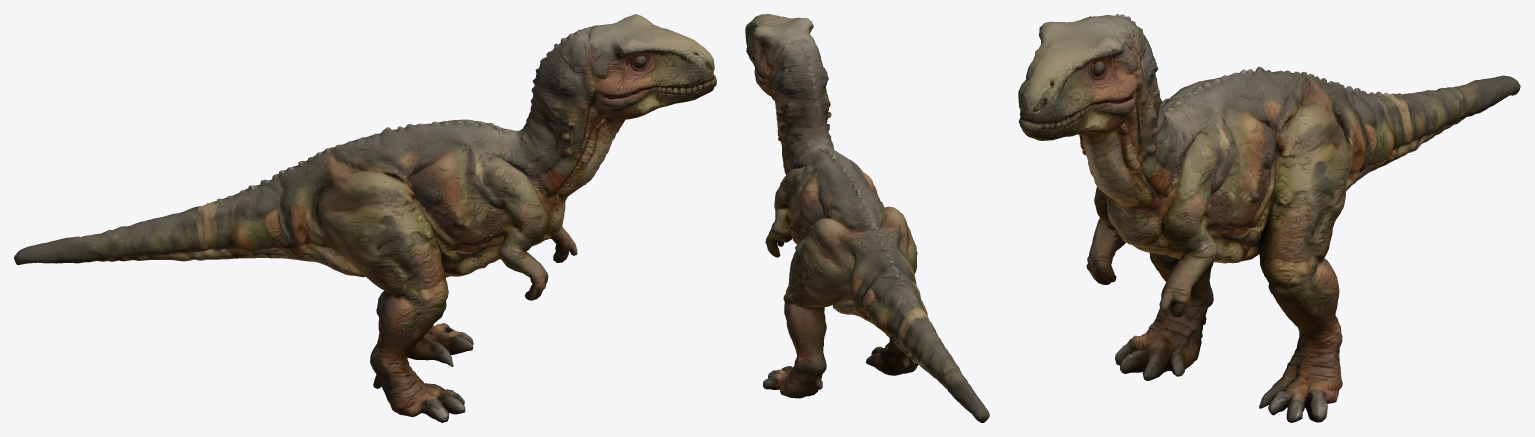
The model's file is yangchuanosaurus.glb.
3 views of the same model, side by side, from view 1: azimuth 30°, elevation 25°; view 2: azimuth 150°, elevation 25°; view 3: azimuth 270°, elevation 25° (orthographic). The views are drawn at different scales.
Parts seen in each view (by area): view 1: tripo_node_f4929675-39b8-4c5a-9c8c-b80159233bd3; view 2: tripo_node_f4929675-39b8-4c5a-9c8c-b80159233bd3; view 3: tripo_node_f4929675-39b8-4c5a-9c8c-b80159233bd3.
Boxes of the visible parts, x1,y1,x2,y2 form: tripo_node_f4929675-39b8-4c5a-9c8c-b80159233bd3: (14,14,716,422); tripo_node_f4929675-39b8-4c5a-9c8c-b80159233bd3: (745,14,989,422); tripo_node_f4929675-39b8-4c5a-9c8c-b80159233bd3: (1018,14,1520,422).
Bounding box in the file's own units: 1 × 0.7034 × 0.7279.
1 material, 1 textured.
